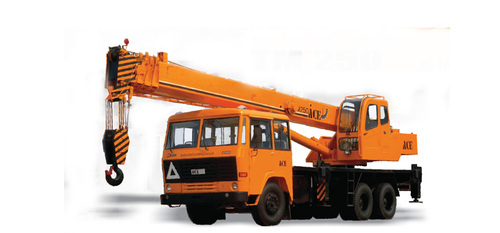crane: (95, 37, 434, 230)
